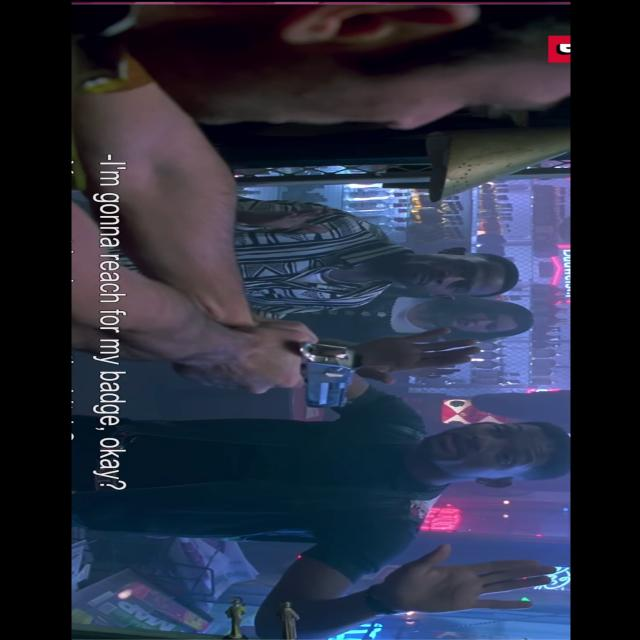weapons: (224, 315, 368, 417)
